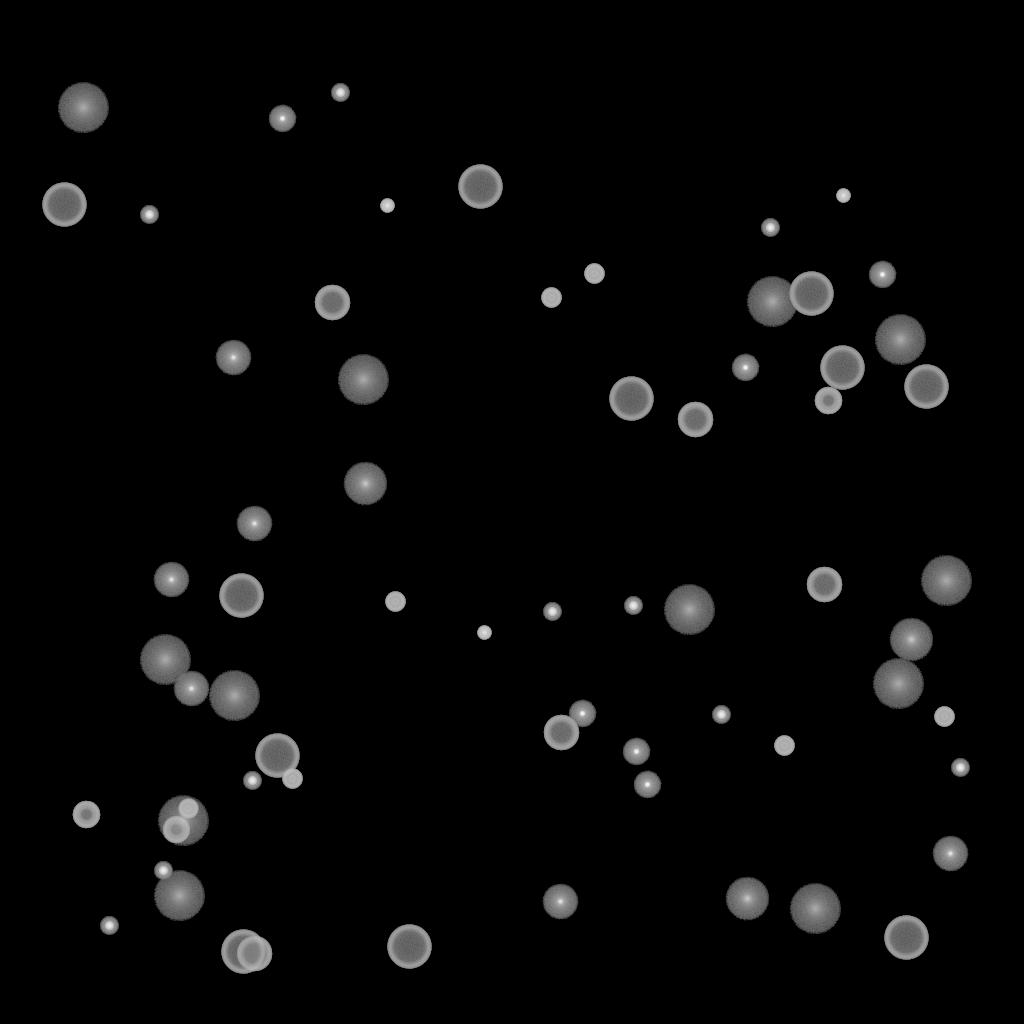depth:-10: (633, 771, 661, 799), (268, 105, 296, 133), (731, 354, 759, 382), (622, 738, 650, 766), (568, 700, 596, 728), (868, 261, 896, 289)
depth:-20: (100, 917, 118, 935), (140, 206, 158, 224), (154, 862, 172, 880), (712, 706, 730, 724), (624, 597, 642, 615), (951, 759, 969, 777), (331, 84, 349, 102), (761, 219, 779, 237), (543, 603, 561, 621), (243, 772, 261, 790)
depth:-30: (836, 189, 850, 203), (477, 626, 491, 640), (380, 199, 394, 213)
depth:-40: (934, 707, 954, 727), (178, 799, 198, 819), (282, 769, 302, 789), (584, 264, 604, 284), (385, 592, 405, 612), (541, 288, 561, 308), (774, 736, 794, 756)
depth:-50: (814, 387, 842, 415), (162, 816, 190, 844), (72, 801, 100, 829)
depth:-60: (677, 402, 713, 438), (543, 715, 579, 751), (236, 936, 272, 972), (806, 567, 842, 603), (314, 285, 350, 321)
depth:-70: (820, 346, 864, 390), (904, 365, 948, 409), (884, 916, 928, 960), (789, 272, 833, 316), (219, 574, 263, 618), (221, 930, 265, 974), (609, 377, 653, 421), (387, 925, 431, 969), (255, 734, 299, 778), (458, 165, 502, 209), (42, 183, 86, 227)
depth:0: (542, 884, 578, 920), (153, 562, 189, 598), (236, 506, 272, 542), (215, 340, 251, 376), (932, 836, 968, 872), (173, 671, 209, 707)
depth:10: (725, 877, 769, 921), (343, 462, 387, 506), (889, 618, 933, 662)
depth:20: (872, 659, 924, 709), (789, 884, 841, 934), (337, 355, 389, 405), (920, 556, 972, 606), (57, 83, 109, 133), (208, 671, 260, 721), (157, 796, 209, 846), (874, 315, 926, 365), (139, 635, 191, 685), (663, 585, 715, 635), (746, 277, 798, 327), (153, 871, 205, 921)
